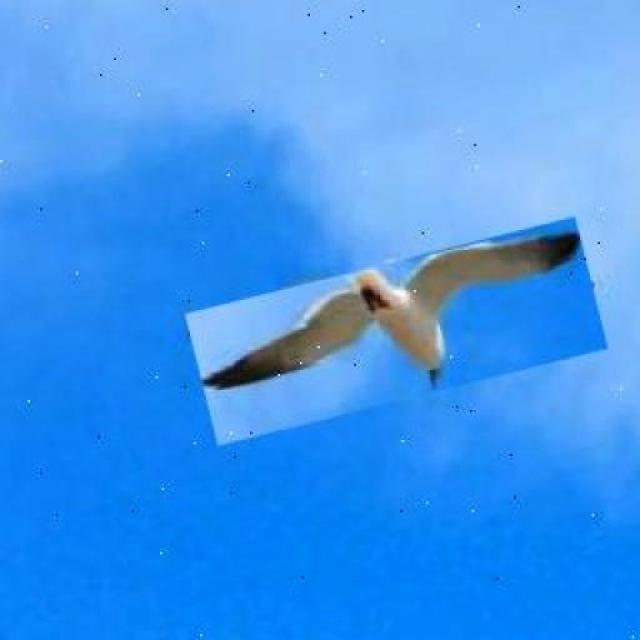airplane: (185, 216, 609, 444)
